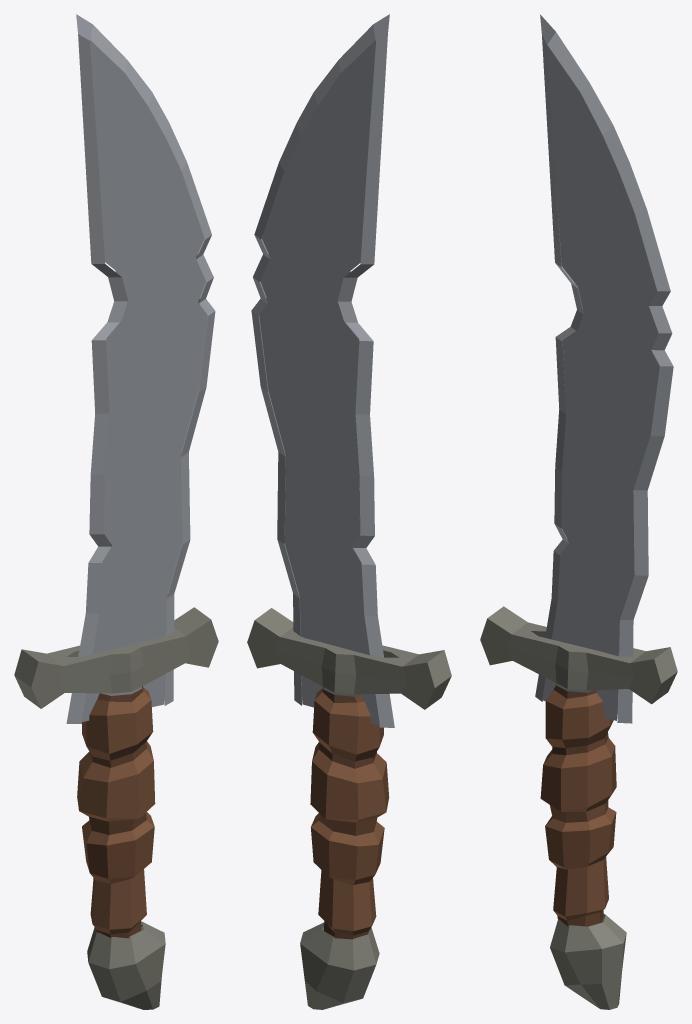
The model's file is armory-assassin-3.glb.
3 views of the same model, side by side, from view 1: azimuth 30°, elevation 25°; view 2: azimuth 150°, elevation 25°; view 3: azimuth 330°, elevation 25° (orthographic). The views are drawn at different scales.
Visible parts, largest first — view 1: Dagger_Cylinder.002; view 2: Dagger_Cylinder.002; view 3: Dagger_Cylinder.002.
Part boxes in pixels (<box>): Dagger_Cylinder.002: <box>14,14,218,1009</box>; Dagger_Cylinder.002: <box>247,14,451,1009</box>; Dagger_Cylinder.002: <box>480,14,677,1009</box>.
Size of the model in its own units: 0.5601 by 2.8 by 0.2103.
